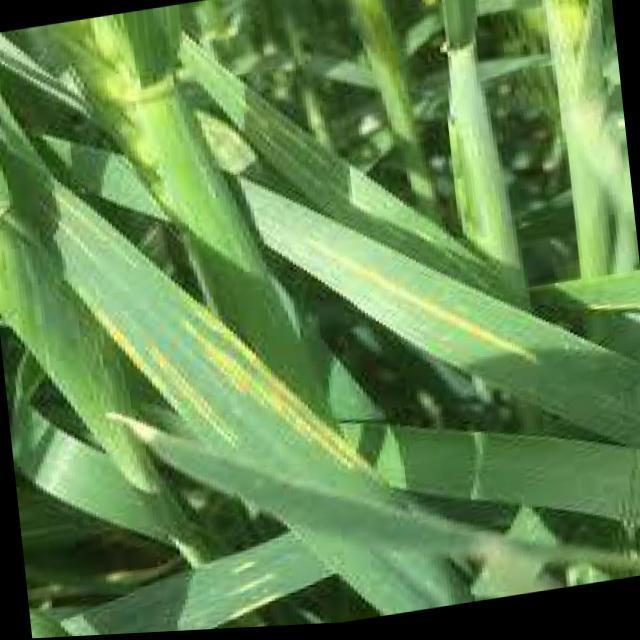Yellow Rust: (28, 183, 566, 638), (236, 183, 639, 456)
